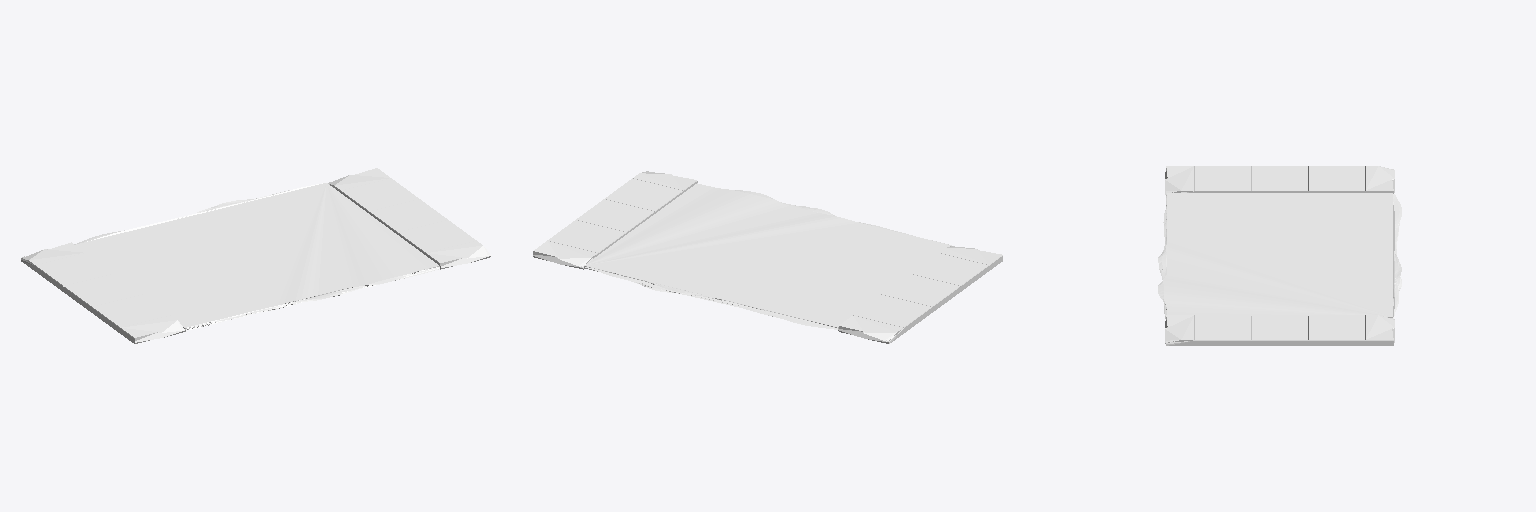
The model's file is StreetPiece.obj.
3 renders of one model, left to right at view 1: azimuth 30°, elevation 25°; view 2: azimuth 150°, elevation 25°; view 3: azimuth 270°, elevation 25°, orthographic.
Visible parts, largest first — view 1: streetpiece-col; view 2: streetpiece-col; view 3: streetpiece-col.
Boxes of the visible parts, x1=… form: streetpiece-col: x1=21, y1=168, x2=490, y2=343; streetpiece-col: x1=533, y1=171, x2=1002, y2=343; streetpiece-col: x1=1158, y1=166, x2=1401, y2=345.
Bounding box in the file's own units: 42.01 × 0.6951 × 24.99.